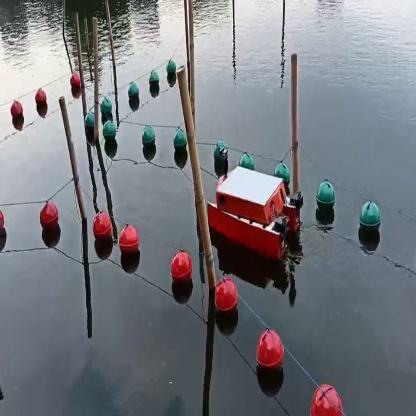green_buoy: (358, 198, 380, 245), (316, 182, 336, 216), (173, 130, 188, 158), (214, 140, 227, 166), (147, 69, 159, 93), (142, 128, 154, 150), (104, 122, 116, 143), (128, 86, 139, 108), (276, 162, 289, 180), (166, 60, 176, 82), (100, 99, 112, 117), (241, 150, 252, 166), (86, 116, 94, 136)
red_buoy: (258, 326, 283, 379), (168, 249, 194, 292), (312, 381, 340, 415), (214, 280, 238, 319), (116, 227, 140, 265), (38, 202, 60, 236), (94, 212, 112, 239), (10, 96, 24, 124), (31, 89, 48, 112), (70, 70, 80, 92)
